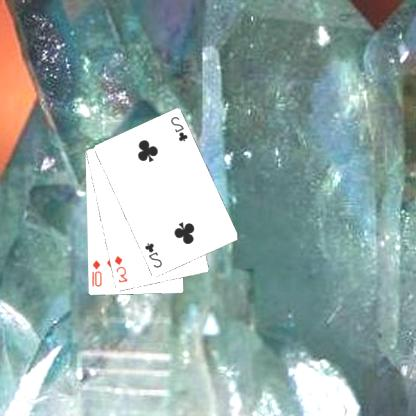10D: (90, 258, 104, 288)
2C: (144, 240, 165, 270), (170, 114, 191, 143)
3D: (113, 253, 131, 284)
